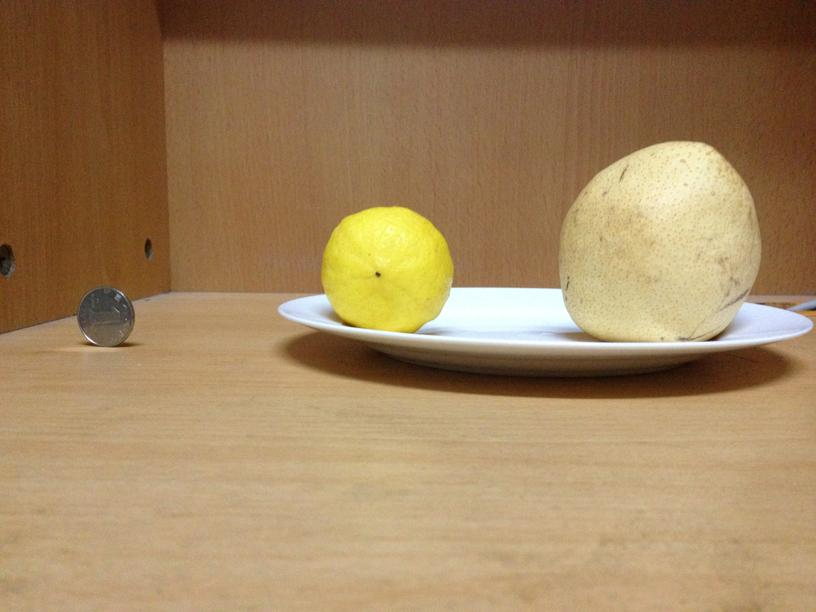coin: (73, 284, 135, 346)
lemon: (316, 206, 454, 331)
pear: (554, 138, 760, 341)
